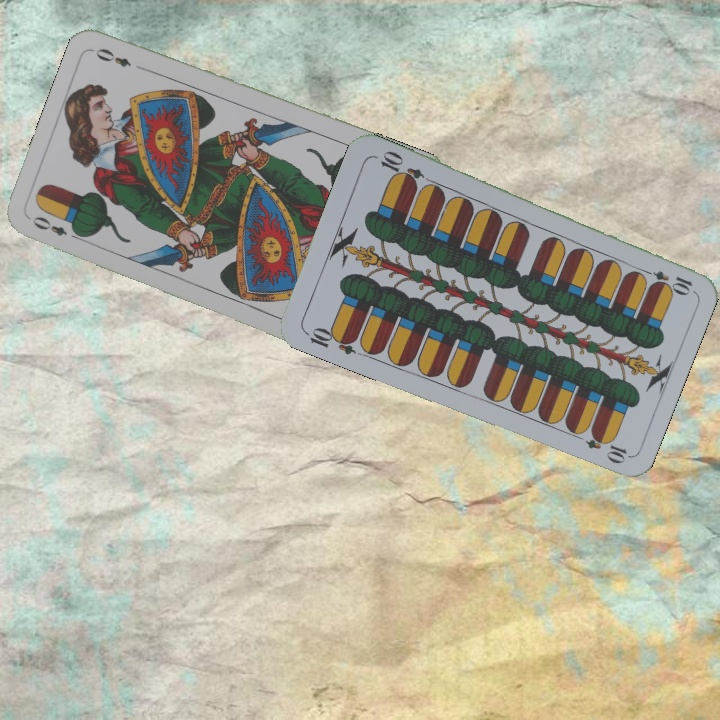E10: (301, 323, 360, 357), (637, 264, 695, 295)
EO: (28, 212, 84, 243)
